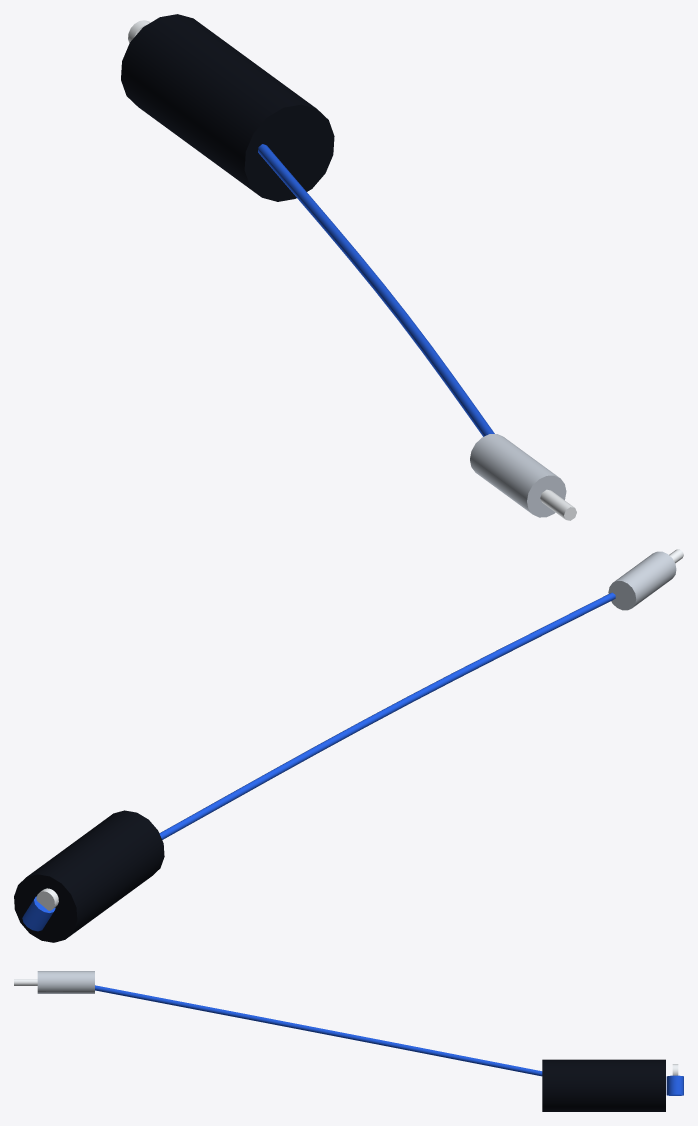
File: pneumatic_shift_bottle.glb
The picture shows the model from 3 angles, top to bottom: view 1: azimuth 30°, elevation 25°; view 2: azimuth 150°, elevation 25°; view 3: azimuth 270°, elevation 25°; orthographic projection. The views are drawn at different scales.
Visible parts, largest first — view 1: Pneumatic_Shift_Gas_Bottle_Assembly; view 2: Pneumatic_Shift_Gas_Bottle_Assembly; view 3: Pneumatic_Shift_Gas_Bottle_Assembly.
Part boxes in pixels (x1,y1,x2,y2): Pneumatic_Shift_Gas_Bottle_Assembly: (121,14,576,520); Pneumatic_Shift_Gas_Bottle_Assembly: (14,549,683,942); Pneumatic_Shift_Gas_Bottle_Assembly: (14,971,683,1111).
Bounding box in the file's own units: 0.3785 × 0.1786 × 1.41.
